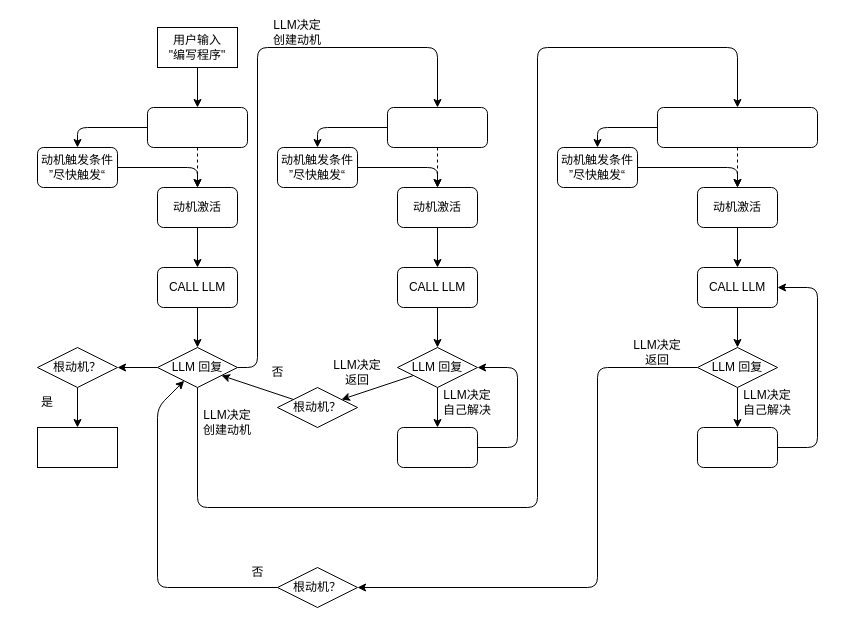
Image size: 843x625. Some labels were removed from this diagram. The centre of each missing label's shape, as x and y in pixels:
END: (77,447)
创建动机 "创建动机模板": (437,127)
创建动机 "处理用户输入": (197,127)
创建动机 "编写程序" （刚刚创建的动机模板）: (737,127)
工具调用: (437,447)
工具调用 “写入文件”: (737,447)
